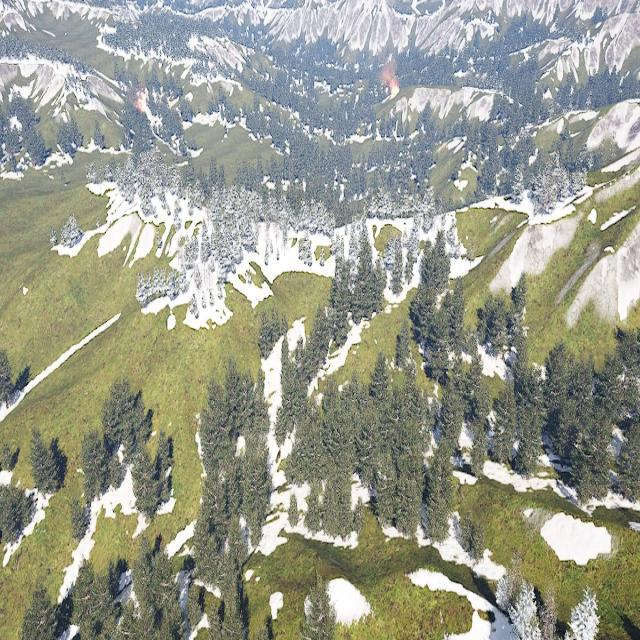fire: (388, 84, 399, 99), (137, 98, 147, 112)
smoke: (378, 49, 396, 83)
